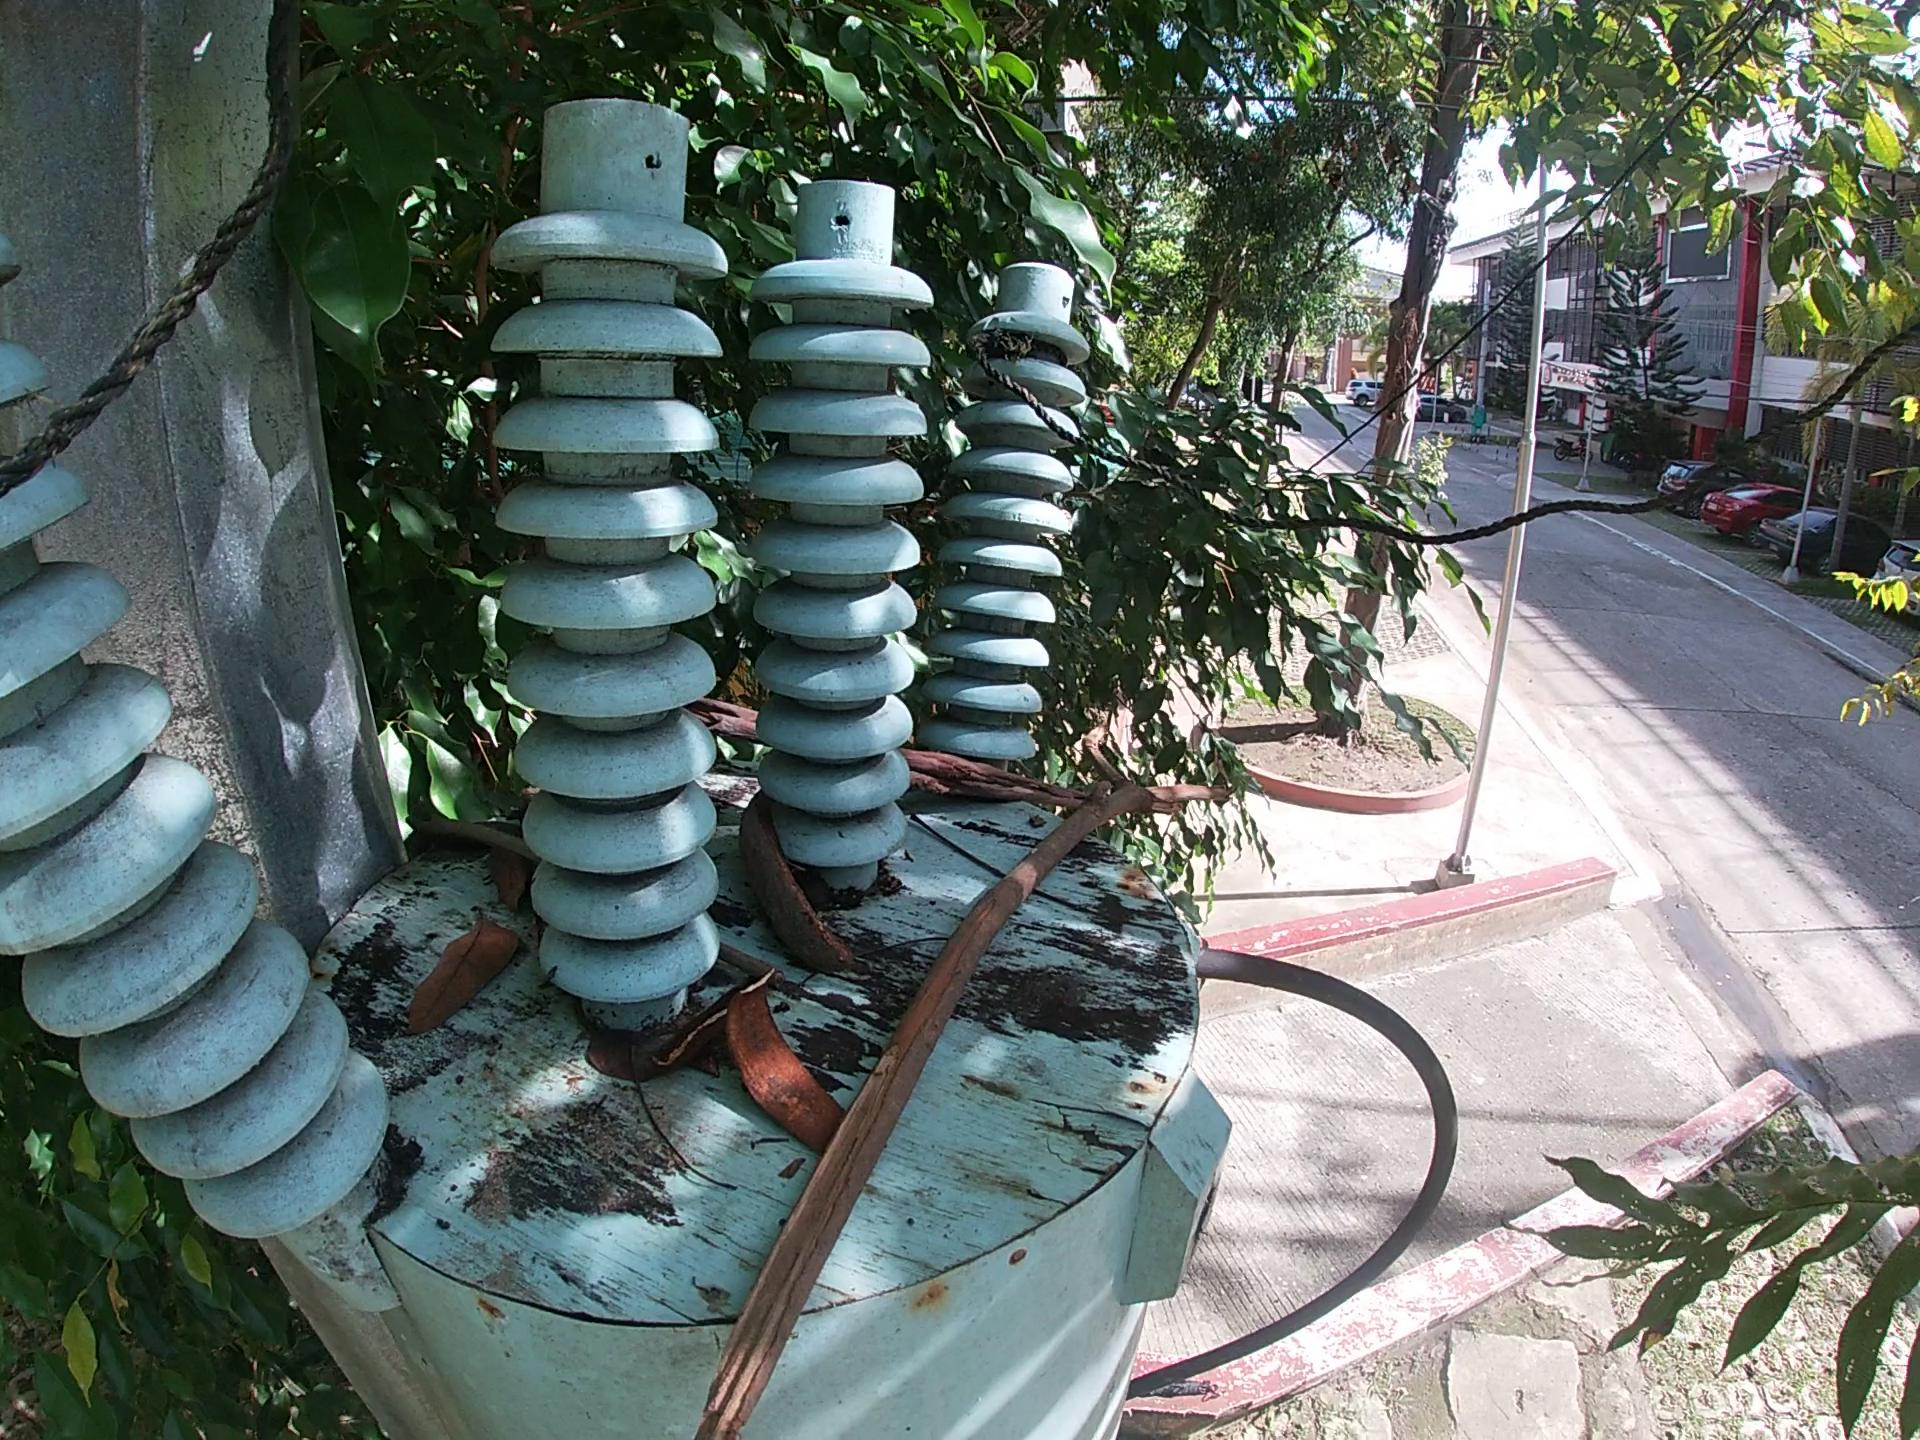leaf: (401, 906, 526, 1038), (571, 1021, 679, 1088), (482, 839, 534, 911)
mahogany fruit: (735, 790, 859, 979), (723, 970, 847, 1156)
tree branch: (683, 718, 1243, 1440), (683, 696, 1089, 815), (396, 812, 543, 867), (717, 944, 792, 988)
